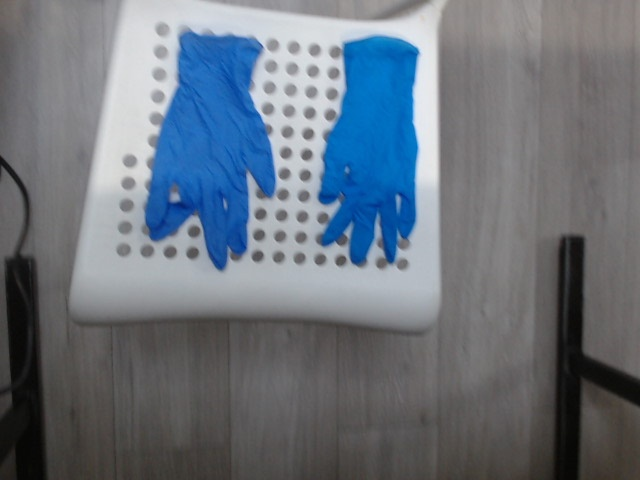medical_glove: (145, 33, 277, 263), (319, 36, 419, 260)
